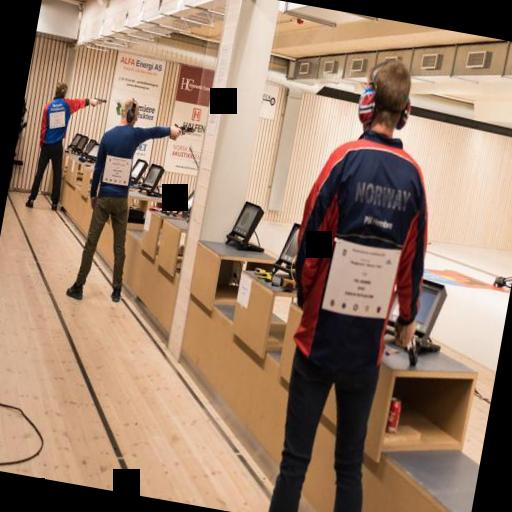Handgun: (166, 116, 198, 144), (90, 93, 108, 110)
